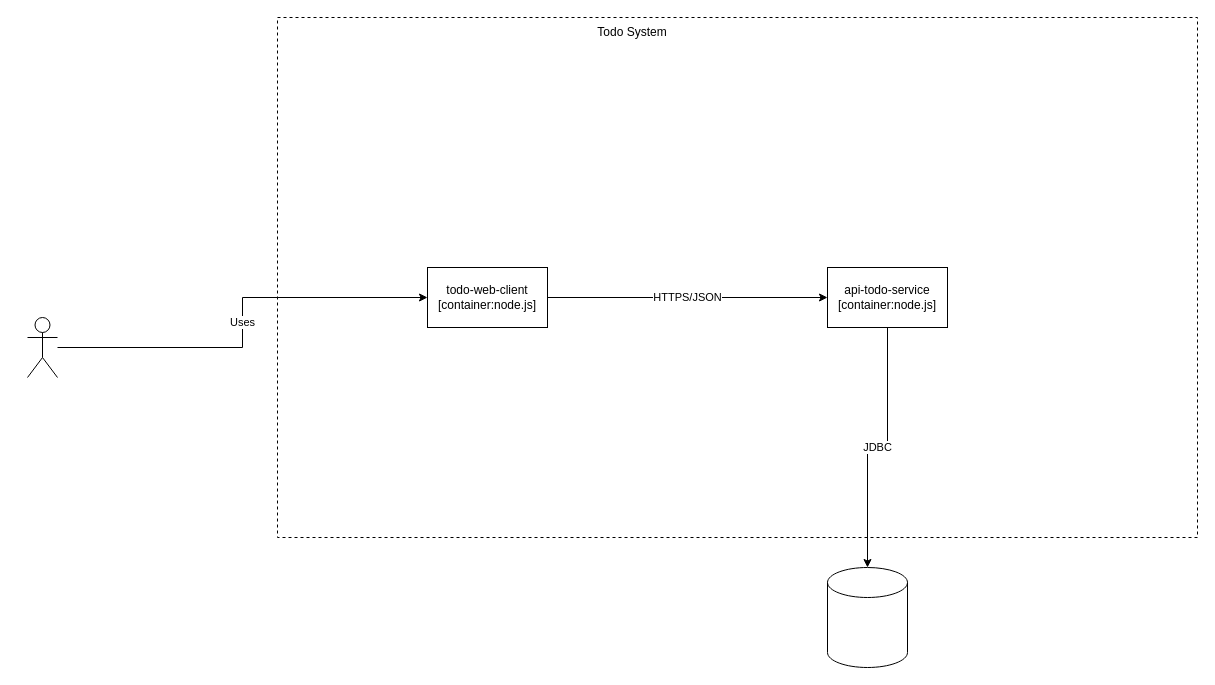
Image size: 1215x685. Some labels were removed from this diagram. Here are the shapes that lost their labels. From the top down, the centre of each, then its label:
the point at 42,347: End User
the point at 867,617: Todo System DB [Postgresql]
